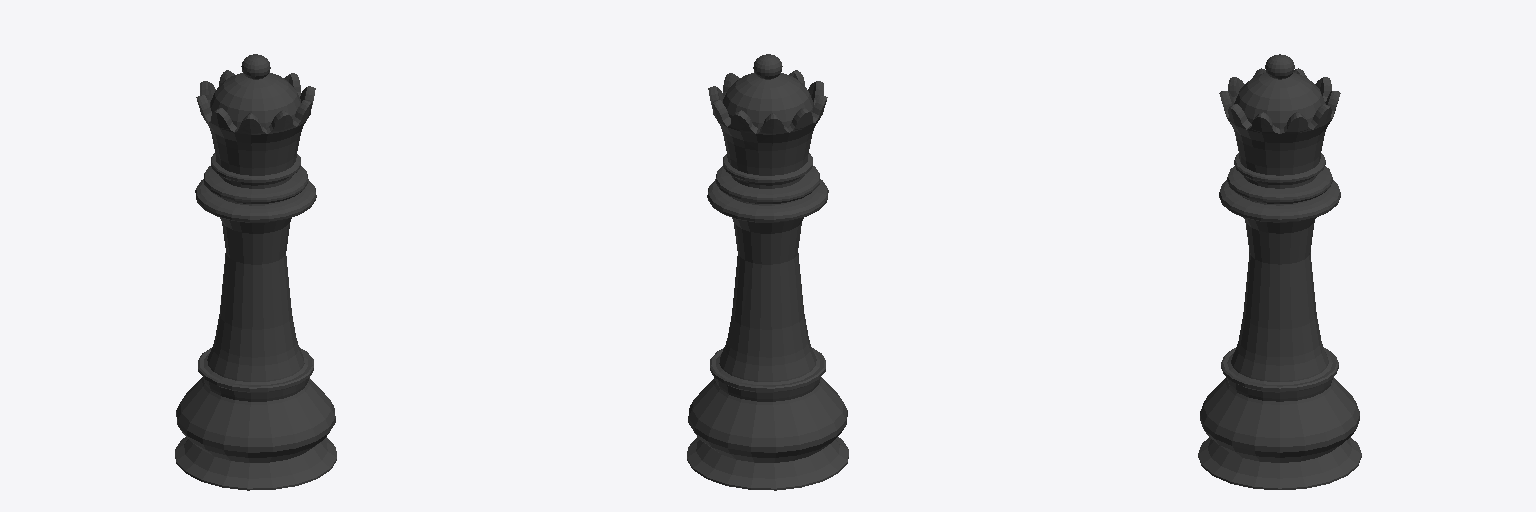
The picture shows the model from 3 angles: view 1: azimuth 30°, elevation 25°; view 2: azimuth 150°, elevation 25°; view 3: azimuth 270°, elevation 25°; orthographic projection.
Visible parts, largest first — view 1: Queen1_Queen1Shape; view 2: Queen1_Queen1Shape; view 3: Queen1_Queen1Shape.
Part boxes in pixels (bbox=[...]): Queen1_Queen1Shape: bbox=[175, 54, 336, 490]; Queen1_Queen1Shape: bbox=[687, 54, 848, 490]; Queen1_Queen1Shape: bbox=[1198, 54, 1361, 489].
Bounding box in the file's own units: 0.9958 × 2.7 × 1.
Materials: 1 (1 with a texture image).